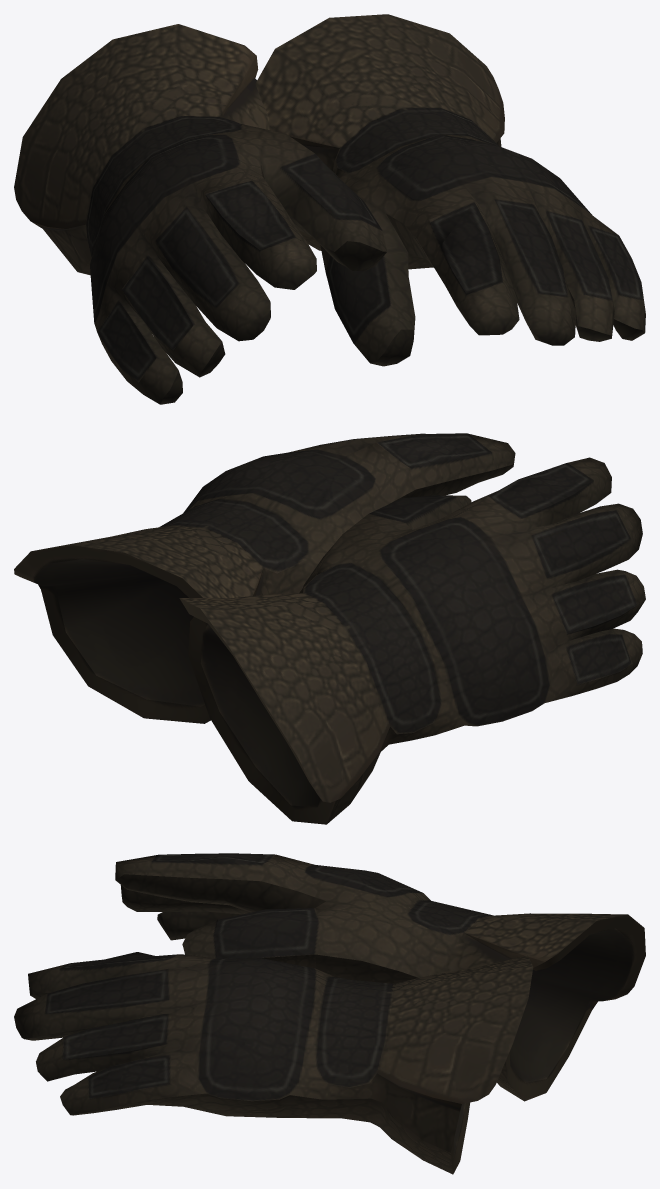
Rendered from gloves.obj.
3 renders of one model, top to bottom at view 1: azimuth 30°, elevation 25°; view 2: azimuth 150°, elevation 25°; view 3: azimuth 270°, elevation 25°, orthographic. The views are drawn at different scales.
Visible parts, largest first — view 1: Gloves_mesh3; view 2: Gloves_mesh3; view 3: Gloves_mesh3.
Part boxes in pixels (x1,y1,x2,y2): Gloves_mesh3: (14, 14, 645, 404); Gloves_mesh3: (14, 433, 645, 824); Gloves_mesh3: (14, 853, 645, 1174).
Bounding box in the file's own units: 31.45 × 14.24 × 38.51.
Materials: 1 (1 with a texture image).
